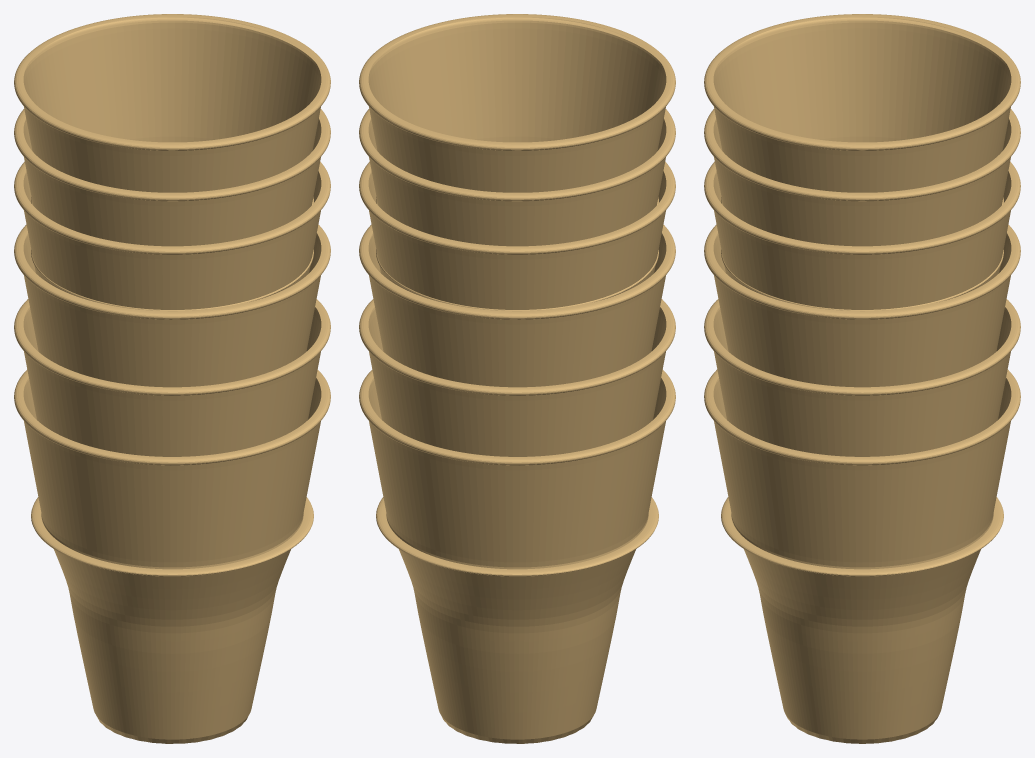
File: icecream con.fbx
The picture shows the model from 3 angles, left to right: view 1: azimuth 30°, elevation 25°; view 2: azimuth 150°, elevation 25°; view 3: azimuth 270°, elevation 25°; orthographic projection.
Visible parts, largest first — view 1: Cylinder.001, Cylinder.006, Cylinder.003, Cylinder.002, Cylinder.004, Cylinder.005; view 2: Cylinder.001, Cylinder.006, Cylinder.003, Cylinder.002, Cylinder.004, Cylinder.005; view 3: Cylinder.001, Cylinder.006, Cylinder.003, Cylinder.002, Cylinder.004, Cylinder.005.
Boxes of the visible parts, left/top/right/bottom form: Cylinder.001: left=14, top=369, right=330, bottom=743; Cylinder.006: left=14, top=14, right=330, bottom=204; Cylinder.003: left=14, top=224, right=330, bottom=387; Cylinder.002: left=14, top=299, right=330, bottom=456; Cylinder.004: left=14, top=161, right=330, bottom=309; Cylinder.005: left=14, top=109, right=330, bottom=311; Cylinder.001: left=359, top=369, right=675, bottom=743; Cylinder.006: left=359, top=14, right=675, bottom=204; Cylinder.003: left=359, top=224, right=675, bottom=387; Cylinder.002: left=359, top=299, right=675, bottom=456; Cylinder.004: left=359, top=161, right=675, bottom=309; Cylinder.005: left=359, top=109, right=675, bottom=311; Cylinder.001: left=704, top=369, right=1020, bottom=743; Cylinder.006: left=704, top=14, right=1020, bottom=204; Cylinder.003: left=704, top=224, right=1020, bottom=387; Cylinder.002: left=704, top=299, right=1020, bottom=456; Cylinder.004: left=704, top=161, right=1020, bottom=309; Cylinder.005: left=704, top=109, right=1020, bottom=311.
Bounding box in the file's own units: 360 × 794 × 360.
